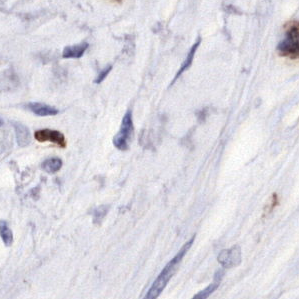Lymphocyte: (34, 128, 68, 147)
